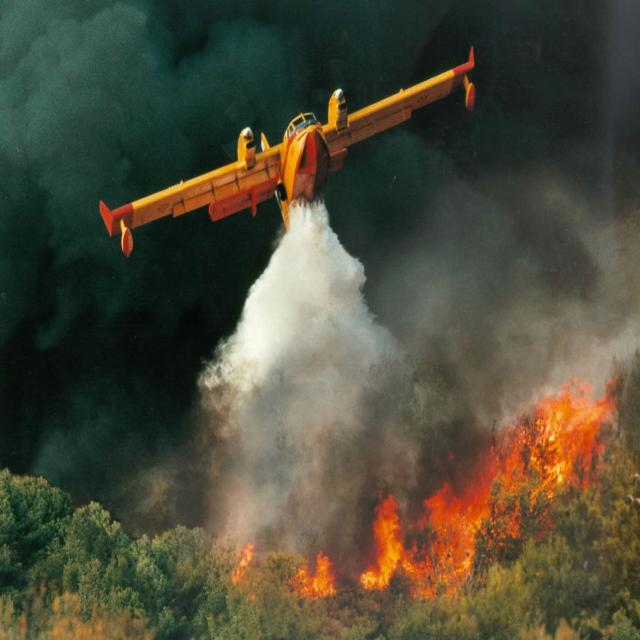Fire: (169, 369, 611, 630)
Smoke: (0, 0, 640, 468)
